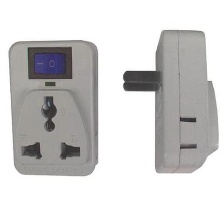three_eye_plug: (118, 27, 222, 178), (4, 35, 100, 177)
